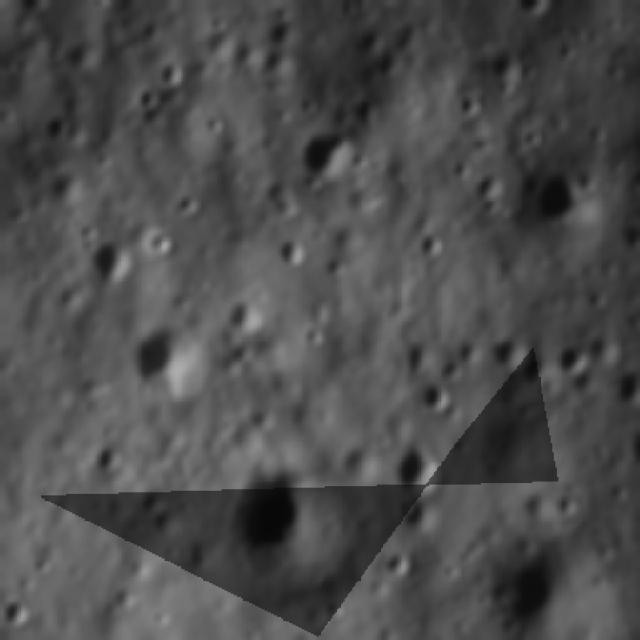crater: (220, 468, 358, 592), (482, 542, 584, 632), (129, 320, 202, 397), (535, 166, 590, 232), (291, 127, 354, 181), (391, 437, 449, 495), (87, 238, 139, 287), (253, 13, 304, 52), (220, 291, 266, 334), (486, 327, 528, 373), (44, 168, 88, 210), (397, 488, 437, 532), (416, 379, 453, 416), (552, 342, 590, 378), (470, 169, 505, 206), (1, 588, 32, 628), (348, 23, 384, 57), (610, 363, 638, 406), (513, 349, 549, 382), (153, 57, 190, 86), (146, 224, 174, 262), (277, 233, 306, 269), (488, 47, 520, 79), (42, 110, 72, 144), (138, 486, 167, 520), (172, 189, 203, 220), (302, 318, 330, 352), (351, 96, 382, 125), (382, 548, 411, 578), (96, 444, 125, 474), (416, 230, 447, 258), (457, 86, 481, 122), (554, 489, 580, 522), (550, 34, 578, 64), (518, 119, 544, 150), (137, 82, 161, 113), (320, 253, 348, 279), (350, 148, 372, 178), (518, 59, 537, 83), (495, 78, 516, 98)
